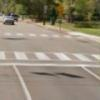crosswalks: (1, 52, 100, 60), (5, 32, 71, 38)
